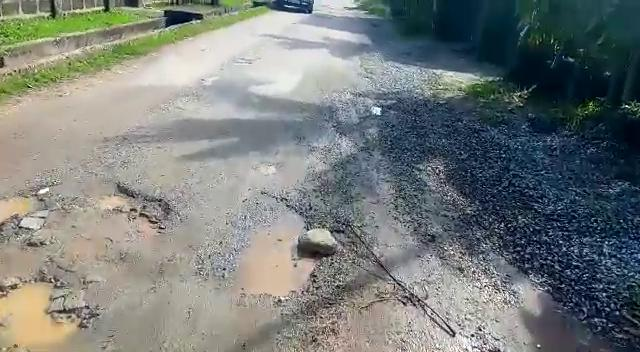pothole: (213, 195, 319, 302), (0, 275, 96, 352), (90, 183, 178, 236), (1, 187, 45, 232)
